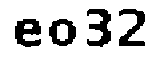2: (115, 4, 150, 52)
3: (83, 4, 112, 50)
e: (11, 15, 44, 50)
o: (45, 16, 79, 51)
